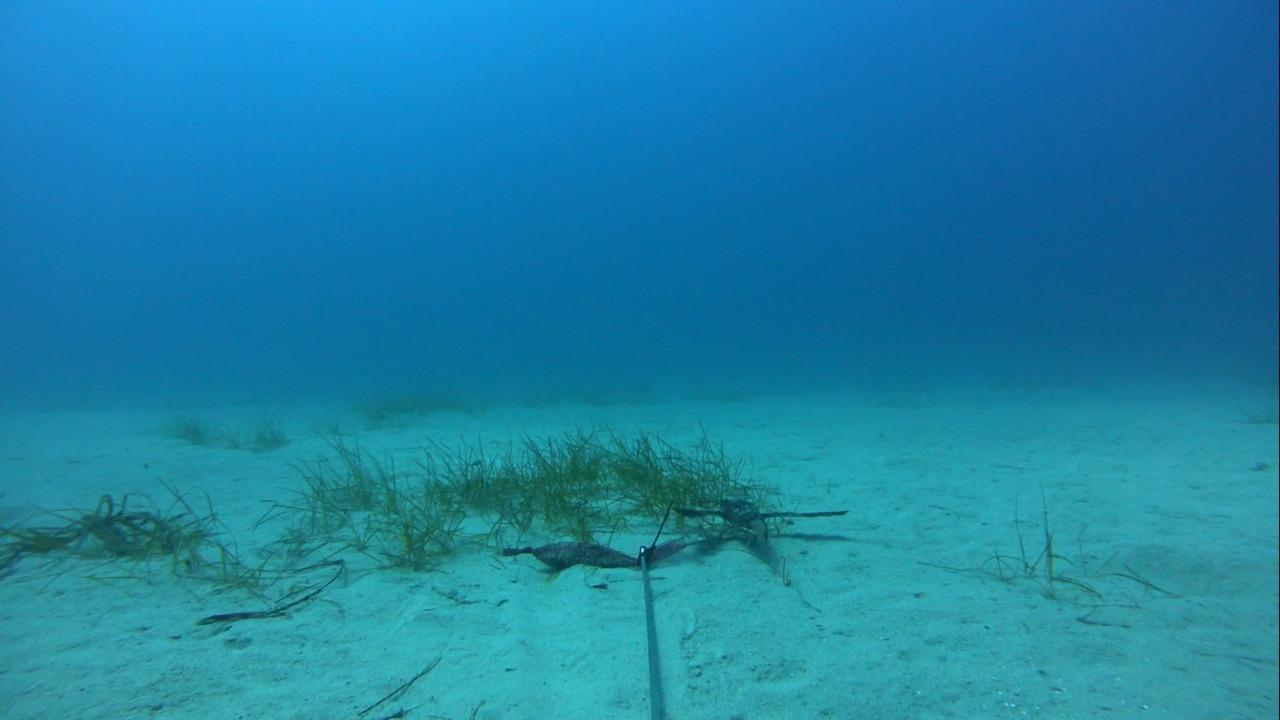dactylopterus: (669, 485, 850, 563)
